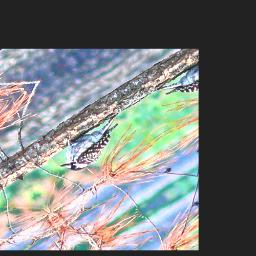Woodpecker: (40, 103, 143, 185)
